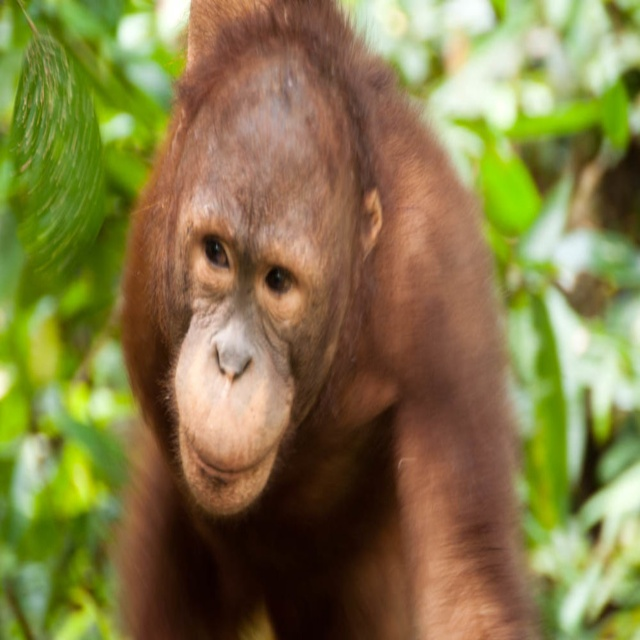Monkey: (104, 0, 543, 640)
